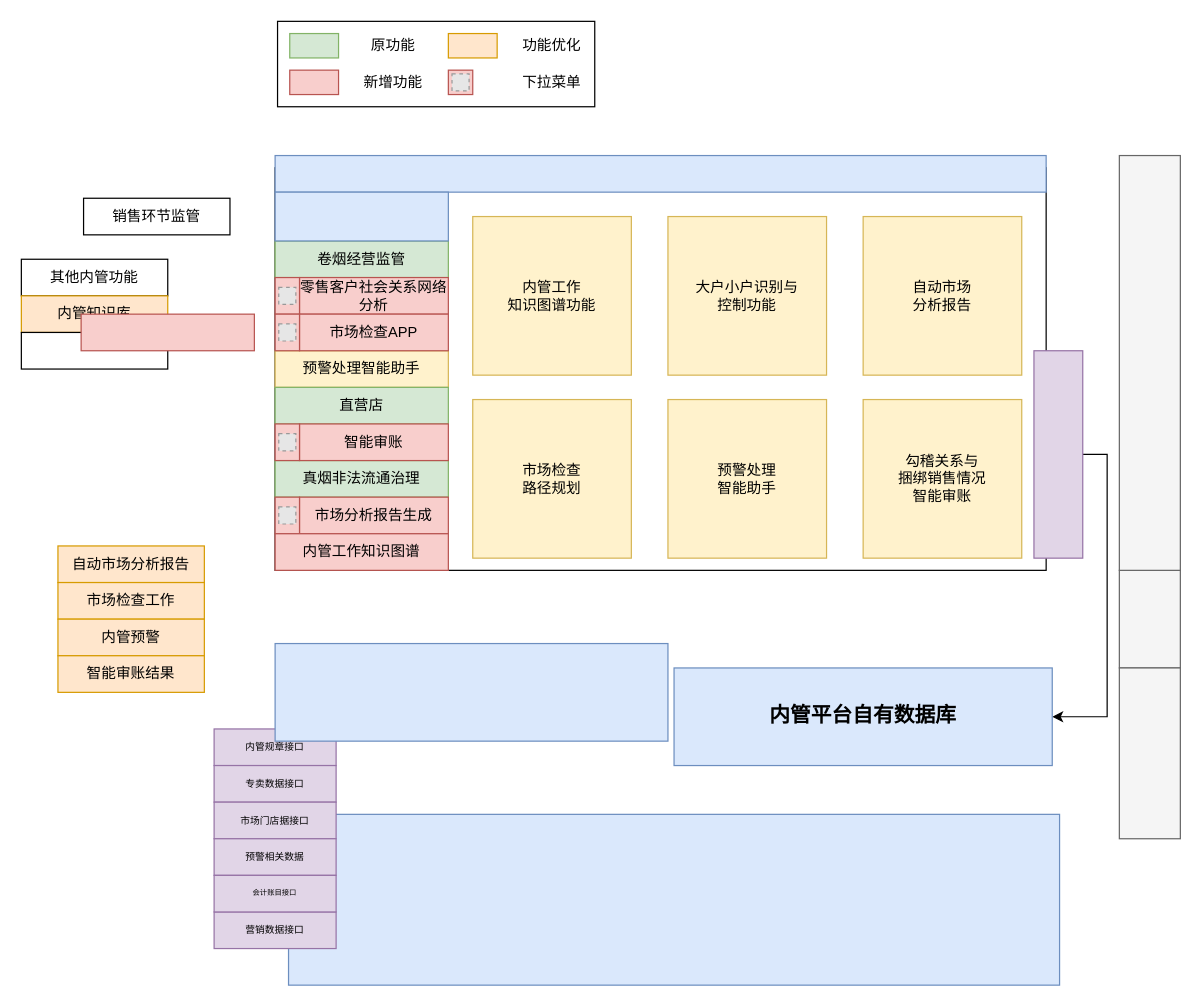
The diagram is 1202 pixels wide and 1007 high, and some of its shapes have lost their labels. Grey dashed boxes stand in for pictures. Each missing label, with the centre of its shape:
内管平台: the point at 471,691
原内管系统界面: the point at 660,173
导航栏: the point at 361,216
广东省高性能数据中心: the point at 673,899
数 据 层: the point at 1149,753
新 功 能 产 生 数 据: the point at 1058,454
表 示 层: the point at 1149,362
逻 辑 层: the point at 1149,618
